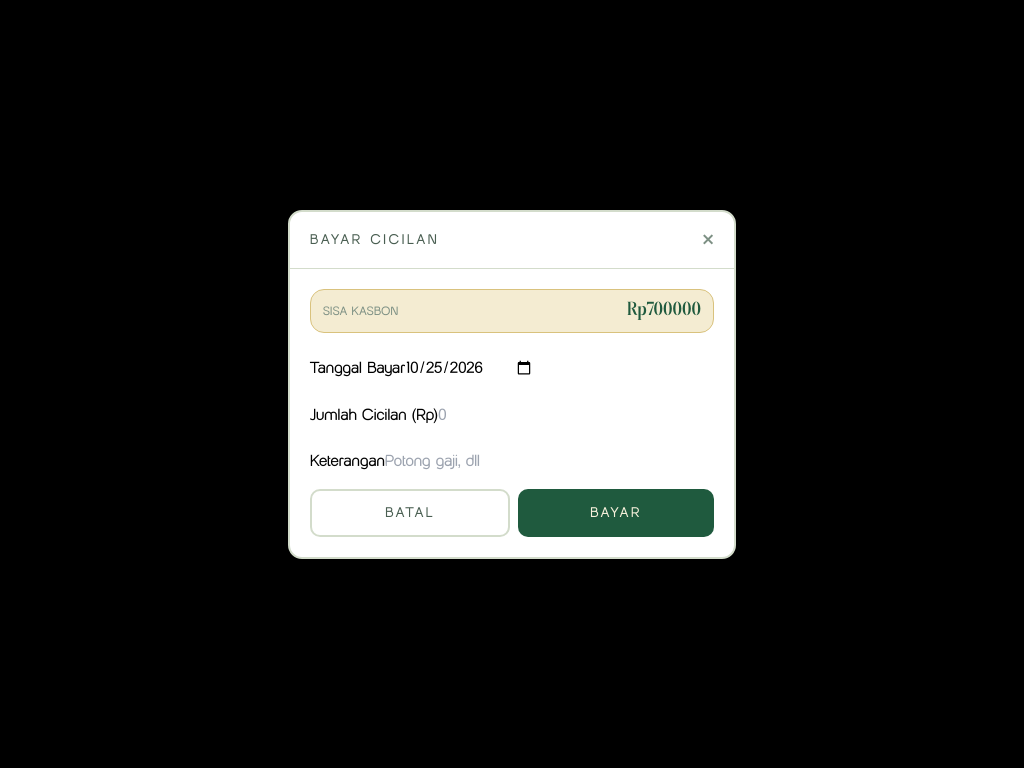
it: CicilanModal — field interactions › shows jumlah fmtRp preview when jumlah entered
Type "150000" into the number field with placeholder "0" at [469, 414], box [438,402,500,426]
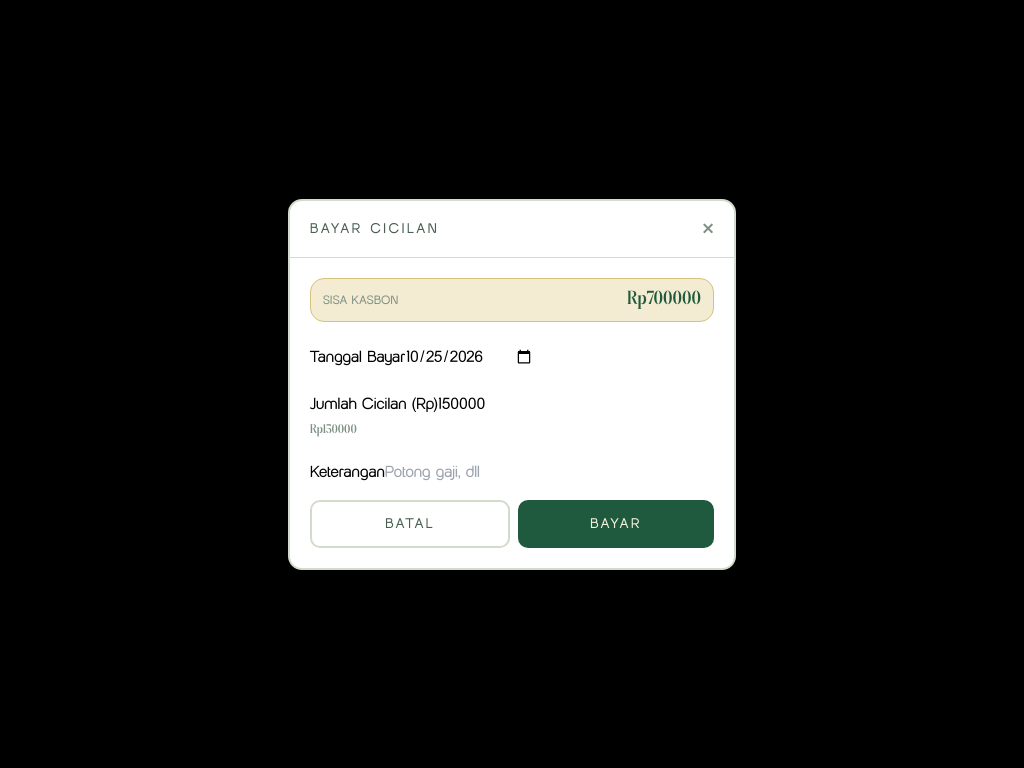
Expected: the text "Rp150000" is shown, [310,424,357,436]
